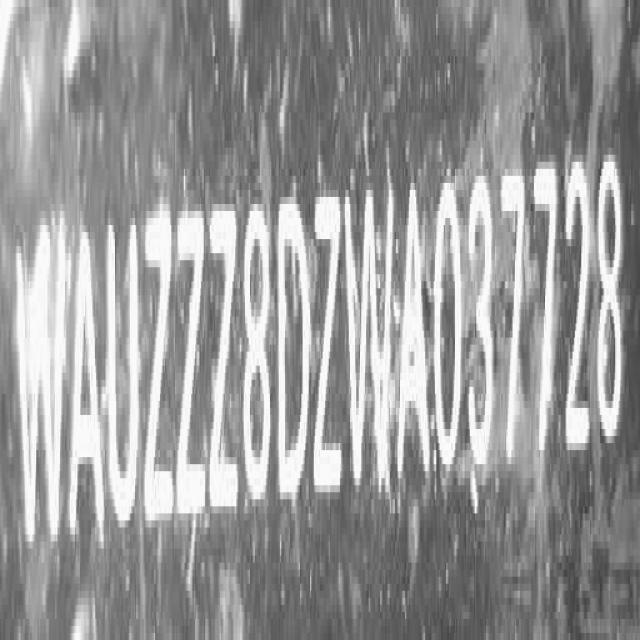0: (432, 180, 462, 478)
2: (563, 152, 592, 456)
3: (467, 172, 497, 472)
7: (531, 153, 561, 470), (500, 161, 528, 469)
8: (242, 202, 272, 520), (598, 152, 627, 446)
A: (70, 210, 105, 553), (397, 182, 432, 489)
D: (276, 192, 310, 512)
U: (108, 208, 141, 540)
W: (14, 216, 70, 558), (344, 182, 395, 502)
Z: (142, 205, 173, 544), (208, 204, 240, 530), (180, 202, 208, 538), (314, 188, 342, 509)
